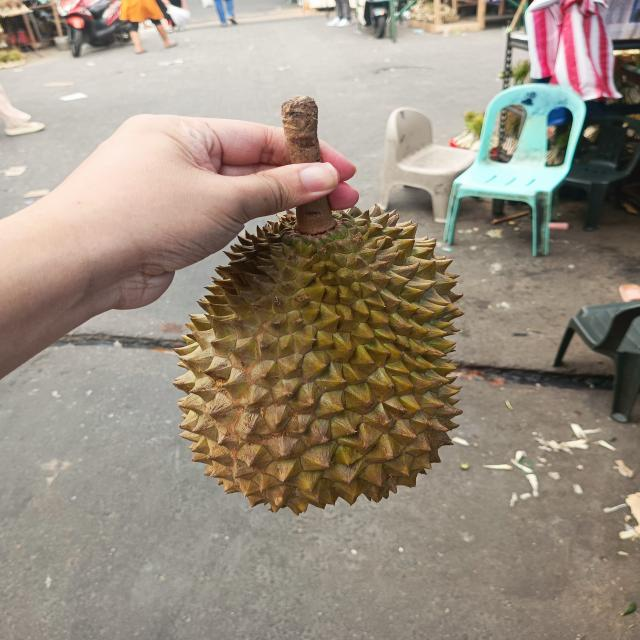mature: (170, 198, 462, 511)
